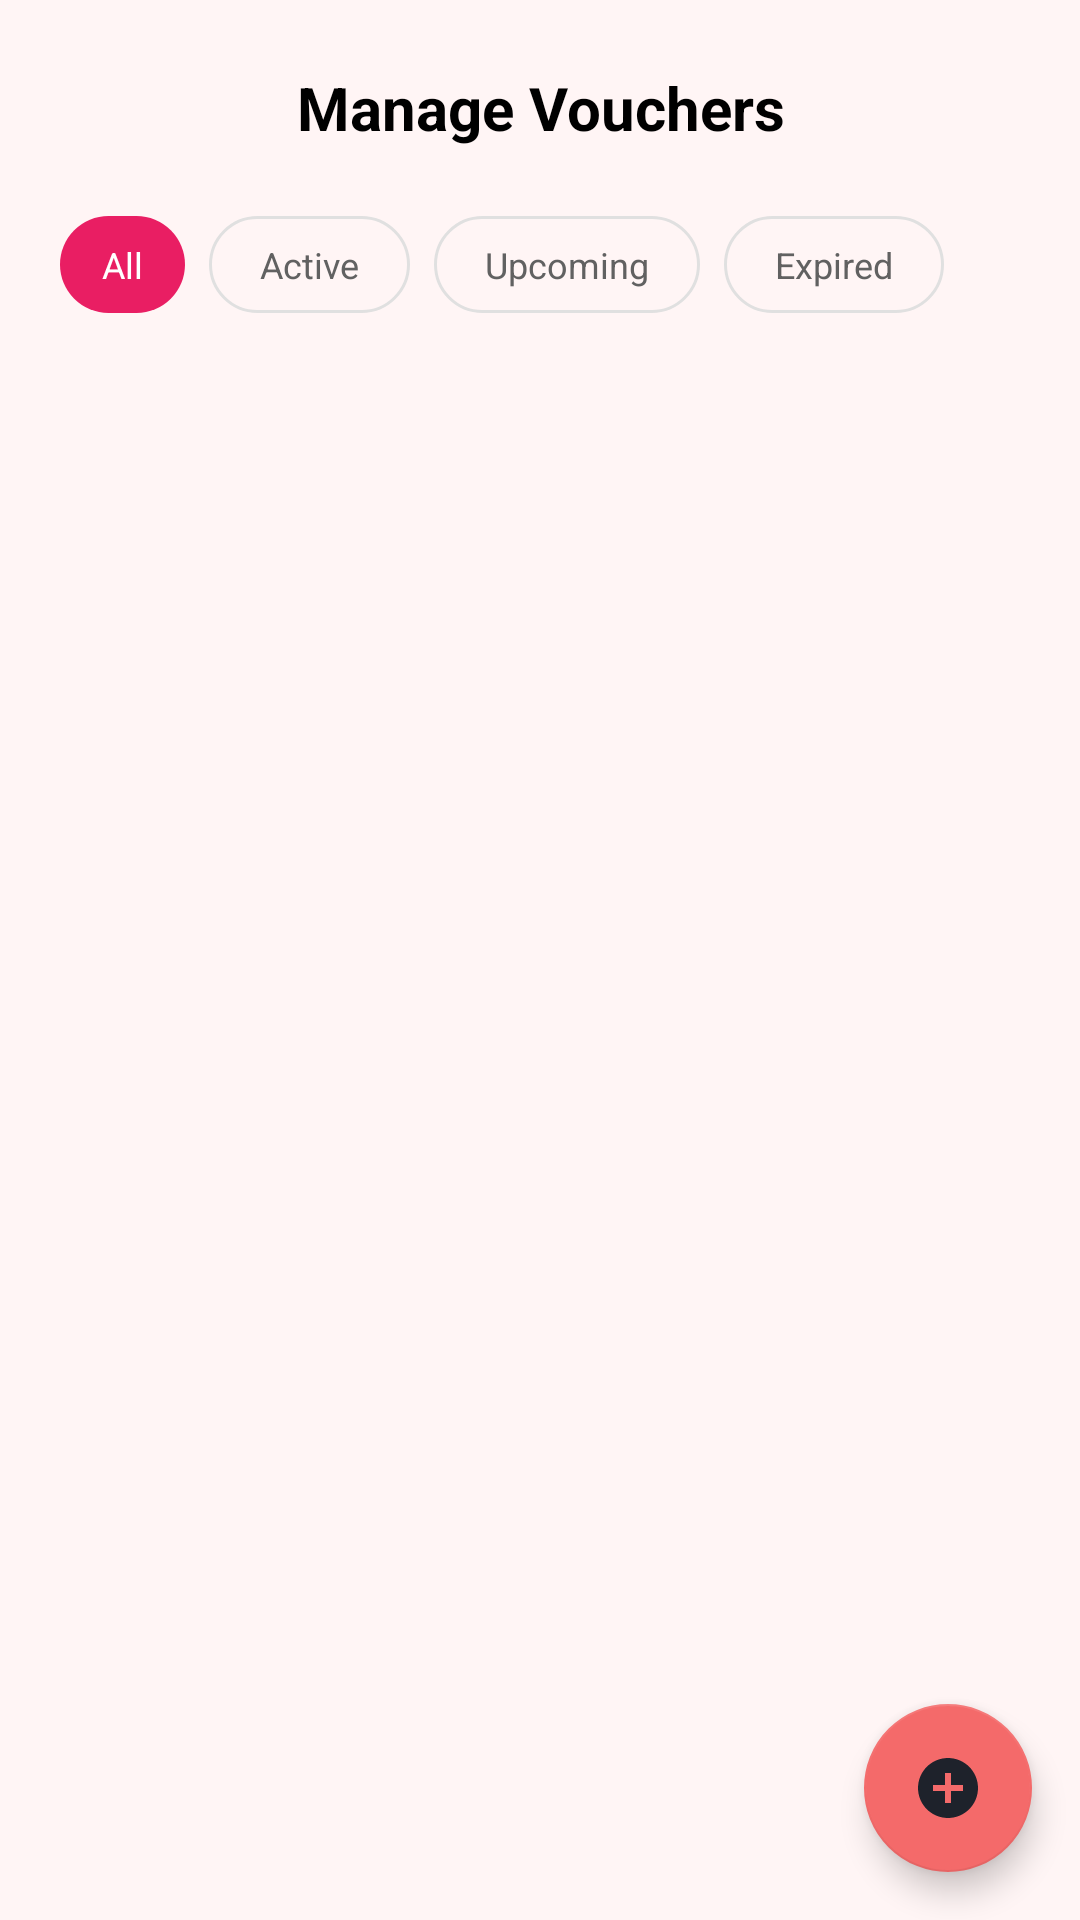

Named icons in this screenshot (1080*1920) and their centers, point (x, y):
Add Voucher: point (948, 1788)
